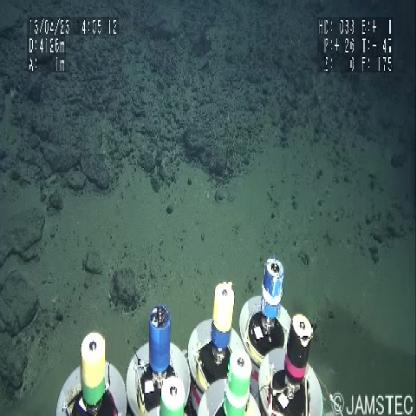Rov: (54, 252, 326, 416)
